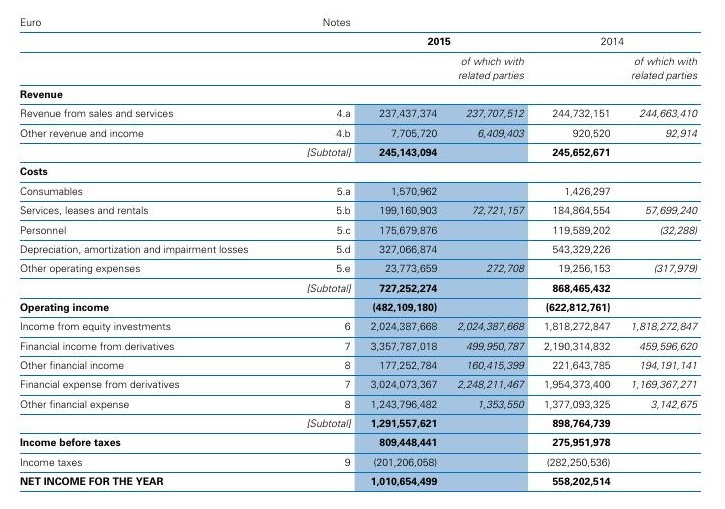table: (0, 0, 725, 509)
